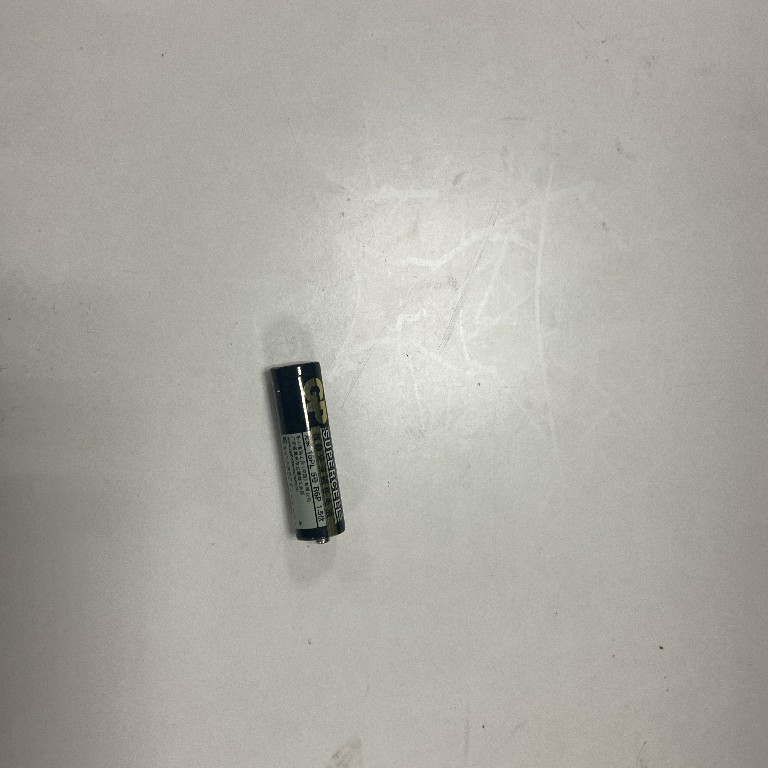charge: (266, 353, 348, 548)
